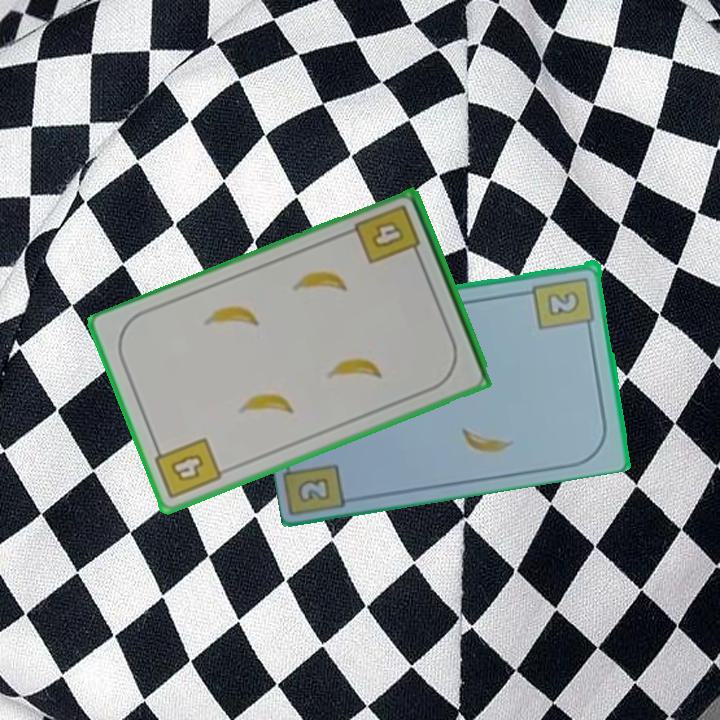2b: (530, 273, 598, 335), (294, 473, 334, 506)
4b: (150, 434, 225, 503), (351, 201, 424, 268)
